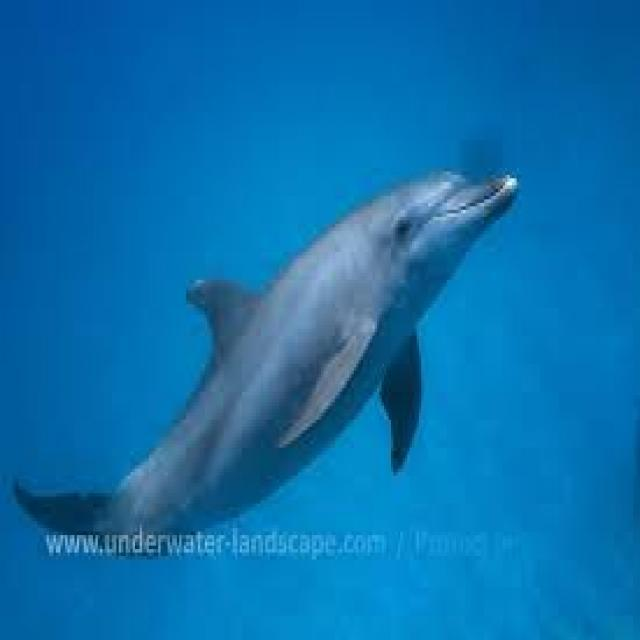dolphin: (70, 130, 530, 416)
